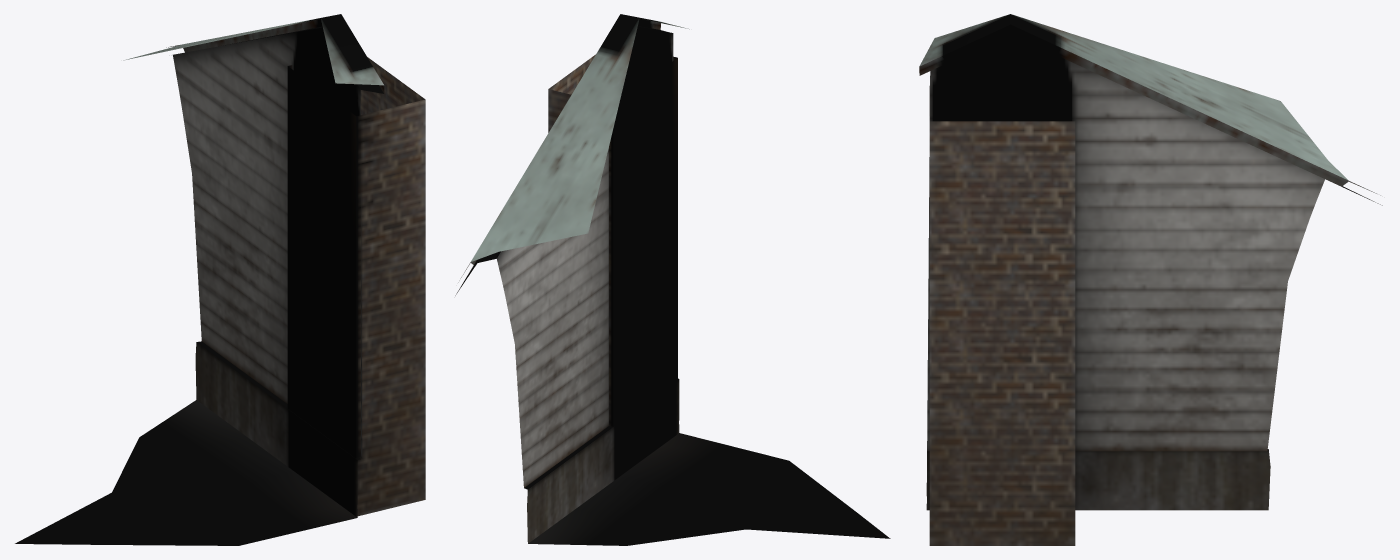
Rendered from House_02_08.fbx.
The picture shows the model from 3 angles, left to right: view 1: azimuth 30°, elevation 25°; view 2: azimuth 150°, elevation 25°; view 3: azimuth 270°, elevation 25°; orthographic projection. The views are drawn at different scales.
Visible parts, largest first — view 1: Object001.010; view 2: Object001.010; view 3: Object001.010.
Boxes of the visible parts, x1,y1,x2,y2 form: Object001.010: [15, 14, 425, 545]; Object001.010: [455, 14, 890, 545]; Object001.010: [919, 14, 1382, 545].
Bounding box in the file's own units: 6.42 × 8.14 × 6.92.
Materials: 1 (1 with a texture image).
